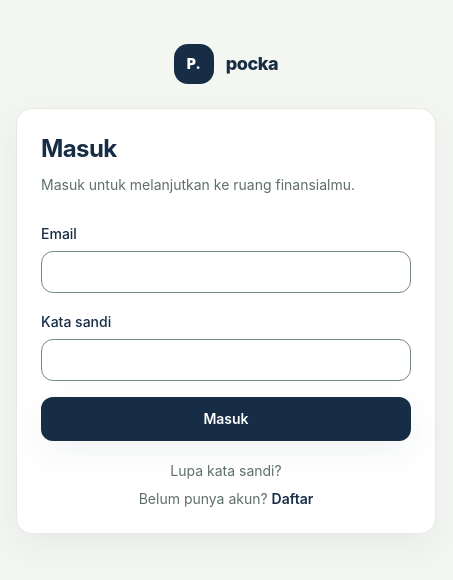
Test: SignInPage › shows a translated error for wrong credentials
Type "ana@test.local" into the field labelled "Email" at (226, 272), box x1=41 y1=251 x2=411 y2=293
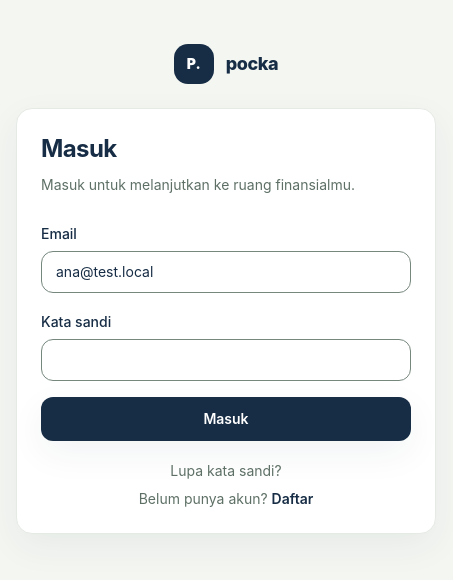
Type "salah-sekali" into the password field labelled "Kata sandi" at (226, 360), box x1=41 y1=339 x2=411 y2=381
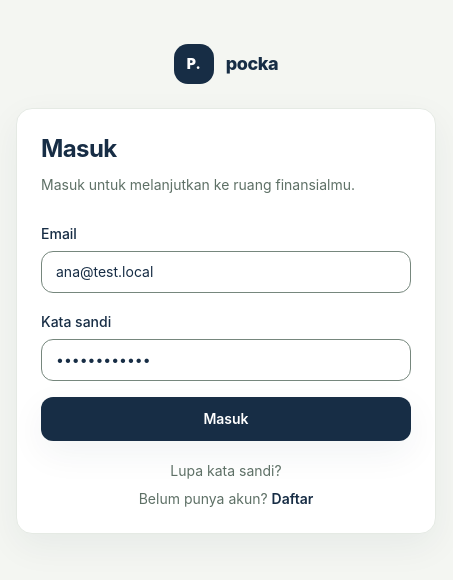
Click the button "Masuk" at (226, 419), box x1=41 y1=397 x2=411 y2=441
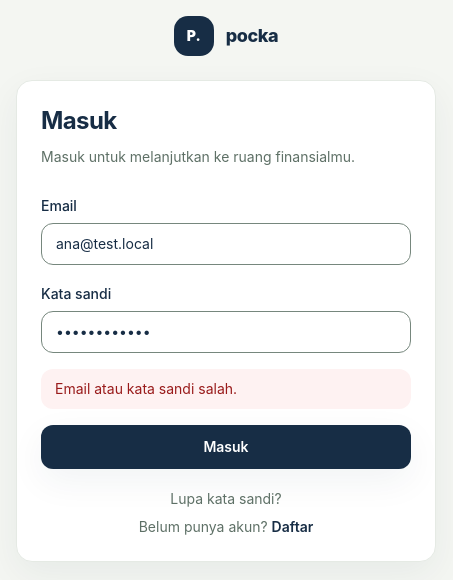
Result: the message reads "Email atau kata sandi salah." at x1=55 y1=380 x2=237 y2=397
